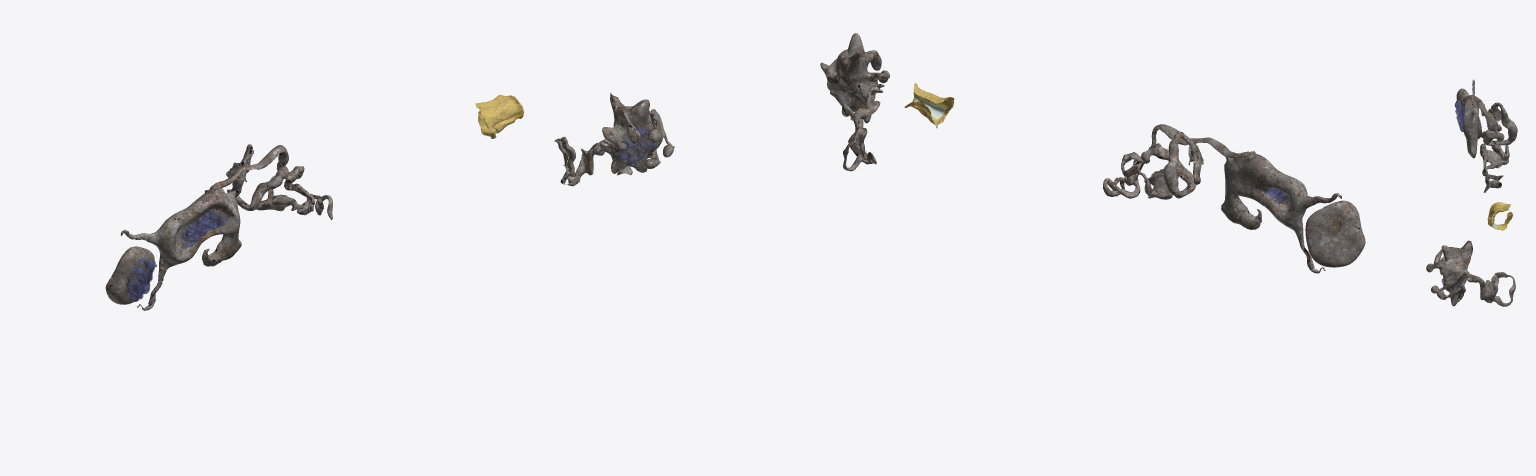
Rendered from top_buttons-DdFqXB9h.glb.
The picture shows the model from 3 angles, left to right: view 1: azimuth 30°, elevation 25°; view 2: azimuth 150°, elevation 25°; view 3: azimuth 270°, elevation 25°; orthographic projection. The views are drawn at different scales.
Visible parts, largest first — view 1: deck_btn_1, deck_btn_0, deck_btn_2, bandaid1, mech, deck_btn_2.mech; view 2: deck_btn_1, deck_btn_0, deck_btn_2, bandaid1; view 3: deck_btn_1, deck_btn_0, bandaid1, deck_btn_2, deck_btn_2.mech.
Boxes of the visible parts, box(x1,y1,x2,y2) form: deck_btn_1: box(120, 144, 332, 310); deck_btn_0: box(554, 93, 674, 186); deck_btn_2: box(105, 246, 154, 304); bandaid1: box(475, 94, 524, 138); mech: box(181, 209, 227, 248); deck_btn_2.mech: box(127, 257, 156, 301); deck_btn_1: box(1103, 124, 1341, 273); deck_btn_0: box(820, 33, 889, 171); deck_btn_2: box(1305, 200, 1365, 267); bandaid1: box(904, 83, 954, 128); deck_btn_1: box(1462, 79, 1517, 192); deck_btn_0: box(1426, 240, 1515, 306); bandaid1: box(1487, 202, 1512, 230); deck_btn_2: box(1456, 88, 1481, 139); deck_btn_2.mech: box(1454, 99, 1463, 132).
Size of the model in its own units: 3.49 by 1.39 by 0.5826.
3 materials, 2 textured.
